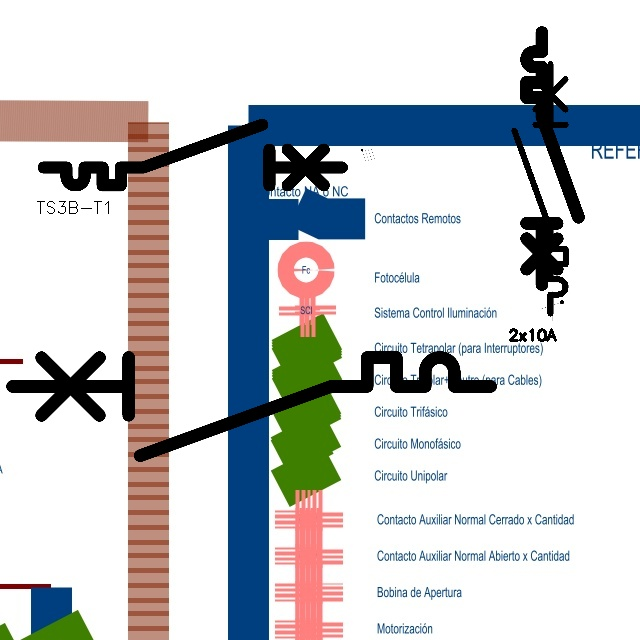interruptor_termomagnetico: (0, 345, 503, 468), (36, 117, 349, 193), (520, 26, 585, 291), (508, 57, 572, 319)
